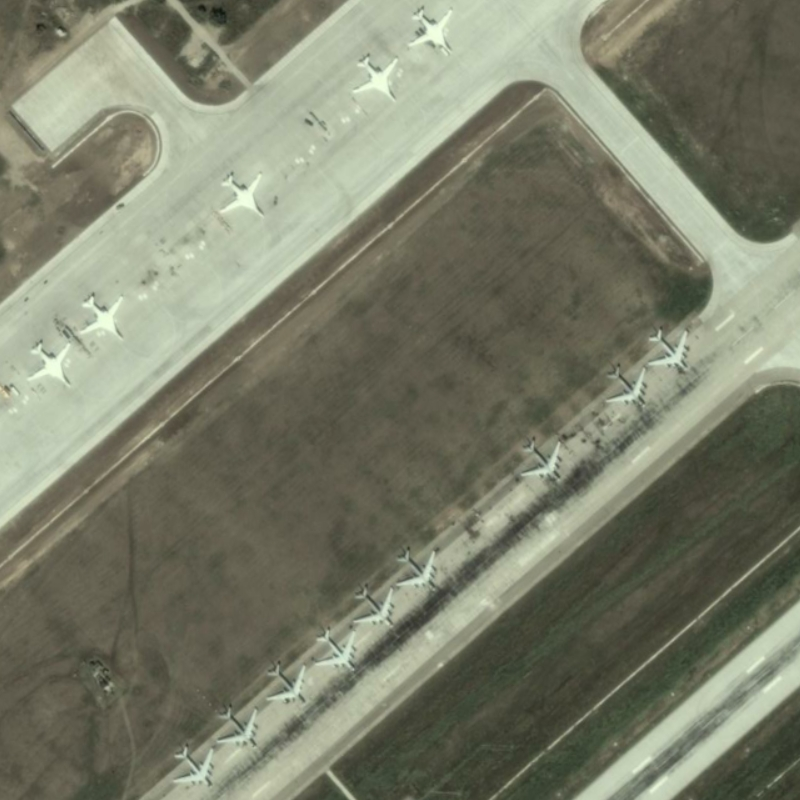A17: (311, 625, 363, 675), (393, 542, 442, 595), (214, 700, 262, 753), (349, 583, 399, 630), (518, 434, 565, 483), (170, 741, 219, 787), (263, 659, 310, 706), (604, 361, 650, 409), (646, 326, 692, 372)
A6: (348, 49, 404, 106), (74, 290, 129, 345), (403, 5, 458, 58), (23, 337, 76, 391), (214, 167, 266, 221)
